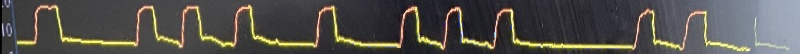normal_pressure: (5, 0, 762, 54)
